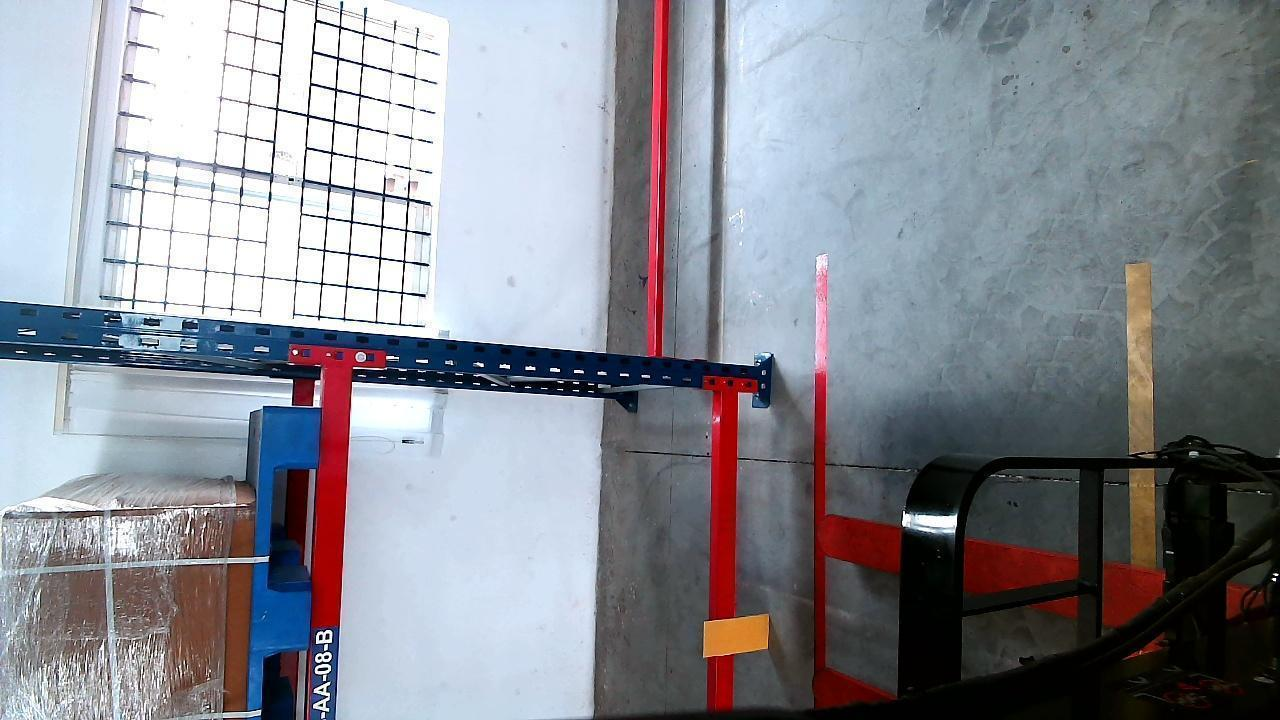red_line: (810, 251, 831, 717)
yellow_line: (1122, 253, 1155, 608)
